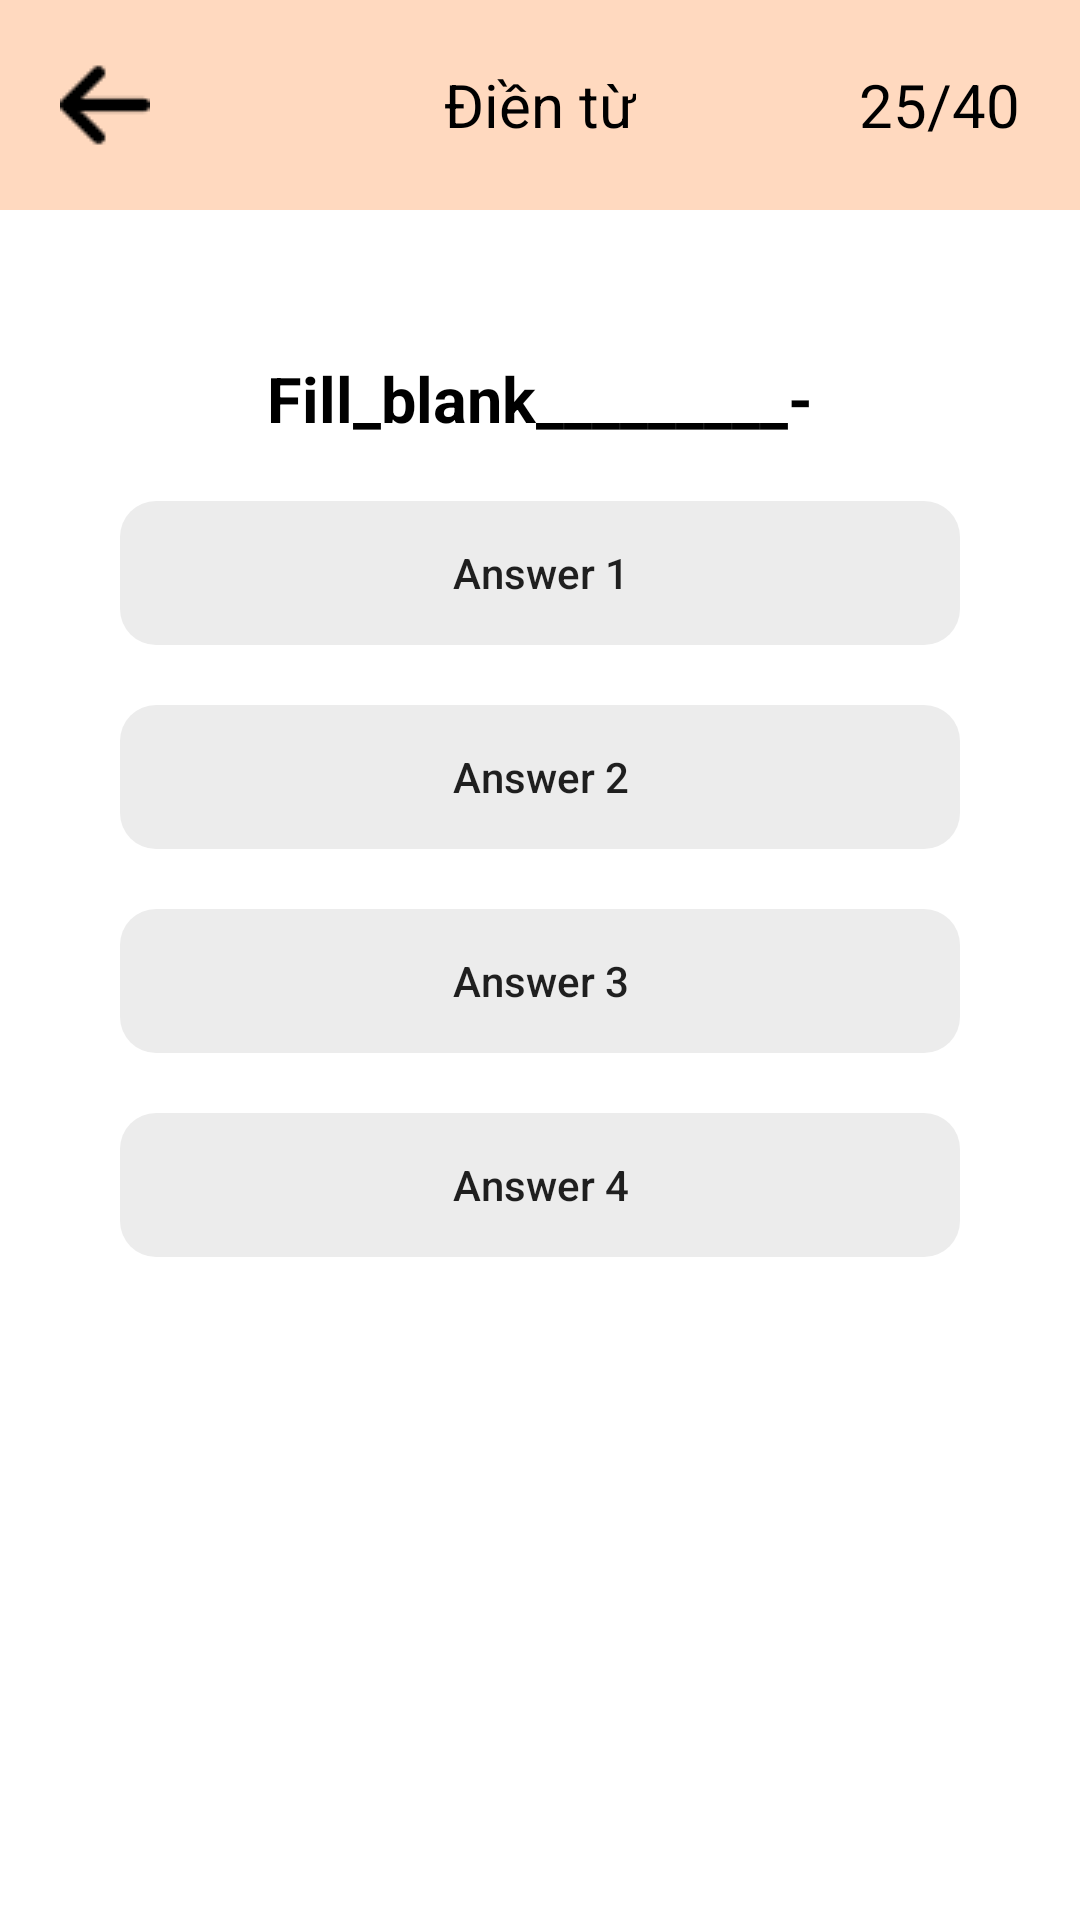

Screen size 1080 x 1920. Icon name, then its box in pixels as (x1, y1, x2, y2):
back: (60, 65, 150, 145)
